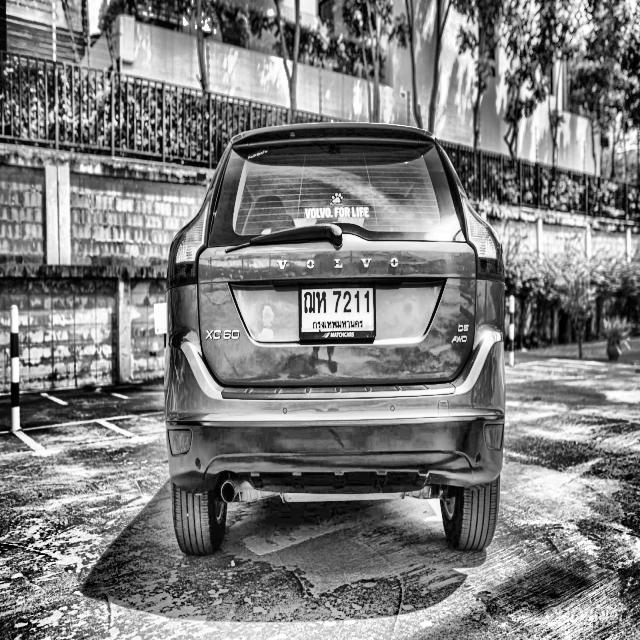license-plate: (295, 278, 379, 348)
